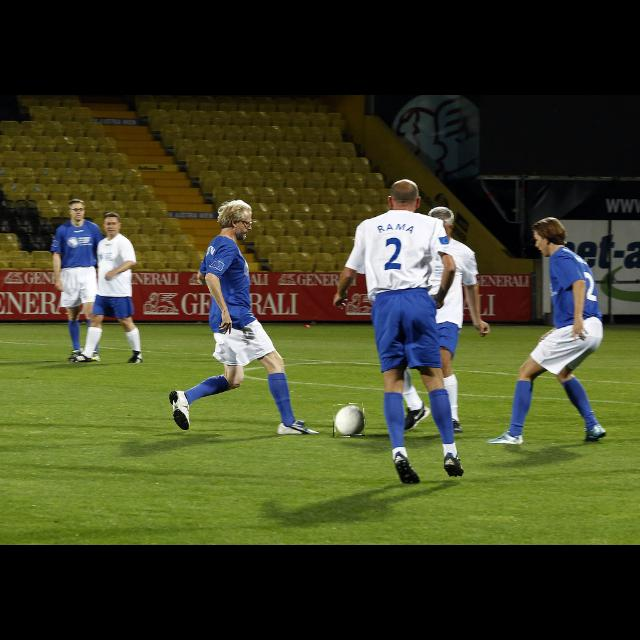Football: (333, 404, 365, 436)
